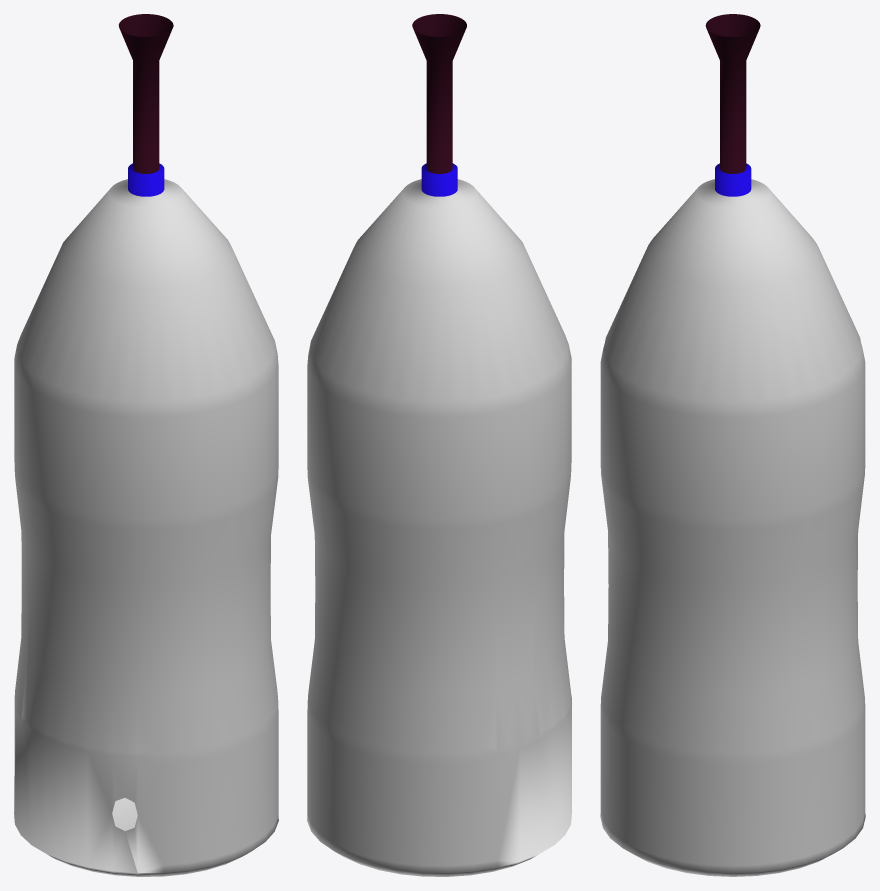
Rendered from wodospad.dae.
3 views of the same model, side by side, from view 1: azimuth 30°, elevation 25°; view 2: azimuth 150°, elevation 25°; view 3: azimuth 270°, elevation 25° (orthographic).
Parts seen in each view (by area): view 1: Circle; view 2: Circle; view 3: Circle.
Part boxes in pixels (x1,y1,x2,y2): Circle: (14,14,278,876); Circle: (307,14,571,876); Circle: (600,14,865,876).
Bounding box in the file's own units: 4.3 × 4.3 × 14.32.
